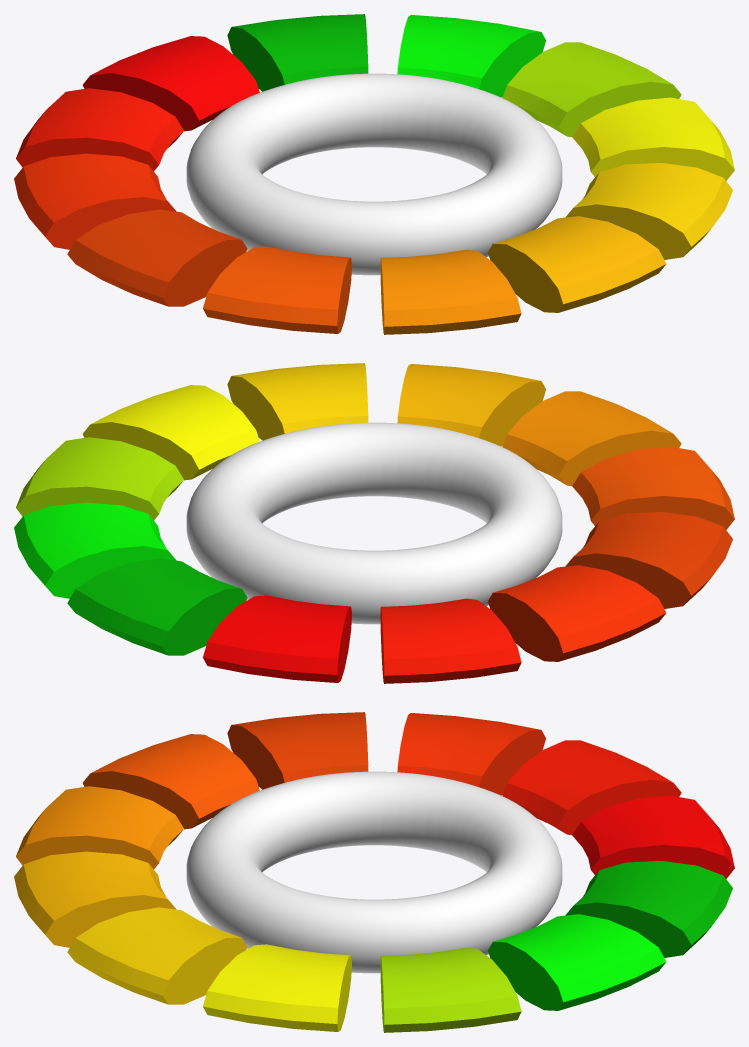
Rendered from Donut.fbx.
3 renders of one model, top to bottom at view 1: azimuth 30°, elevation 25°; view 2: azimuth 150°, elevation 25°; view 3: azimuth 270°, elevation 25°, orthographic.
Visible parts, largest first — view 1: Donut, Gauge7, Gauge4, Gauge5, Gauge8, Gauge6, Gauge3, Gauge10, Gauge1, Gauge9, Gauge2, Gauge11 (+1 smaller); view 2: Donut, Gauge3, Gauge12, Gauge1, Gauge4, Gauge2, Gauge11, Gauge6, Gauge9, Gauge5, Gauge10, Gauge7 (+1 smaller); view 3: Donut, Gauge11, Gauge8, Gauge9, Gauge12, Gauge10, Gauge7, Gauge2, Gauge5, Gauge1, Gauge6, Gauge3 (+1 smaller).
Boxes of the visible parts, x1,y1,x2,y2 form: Donut: [186, 73, 562, 275]; Gauge7: [488, 216, 666, 312]; Gauge4: [67, 209, 247, 306]; Gauge5: [203, 246, 351, 333]; Gauge8: [565, 163, 732, 259]; Gauge6: [380, 249, 521, 334]; Gauge3: [14, 153, 176, 249]; Gauge10: [502, 42, 681, 137]; Gauge1: [82, 36, 259, 131]; Gauge9: [572, 97, 734, 180]; Gauge2: [16, 88, 183, 171]; Gauge11: [397, 15, 545, 97]; Donut: [186, 422, 562, 624]; Gauge3: [488, 565, 666, 661]; Gauge12: [67, 558, 247, 655]; Gauge1: [203, 595, 351, 682]; Gauge4: [565, 512, 732, 608]; Gauge2: [380, 598, 521, 683]; Gauge11: [14, 502, 176, 598]; Gauge6: [502, 391, 681, 486]; Gauge9: [82, 385, 259, 480]; Gauge5: [572, 446, 734, 529]; Gauge10: [16, 437, 183, 520]; Gauge7: [397, 364, 545, 446]; Donut: [186, 771, 562, 973]; Gauge11: [488, 914, 666, 1010]; Gauge8: [67, 907, 247, 1004]; Gauge9: [203, 944, 351, 1031]; Gauge12: [565, 861, 732, 957]; Gauge10: [380, 947, 521, 1032]; Gauge7: [14, 851, 176, 947]; Gauge2: [502, 740, 681, 835]; Gauge5: [82, 734, 259, 829]; Gauge1: [572, 795, 734, 878]; Gauge6: [16, 786, 183, 869]; Gauge3: [397, 713, 545, 795].
Size of the model in its own units: 31.28 by 3.17 by 31.28.
